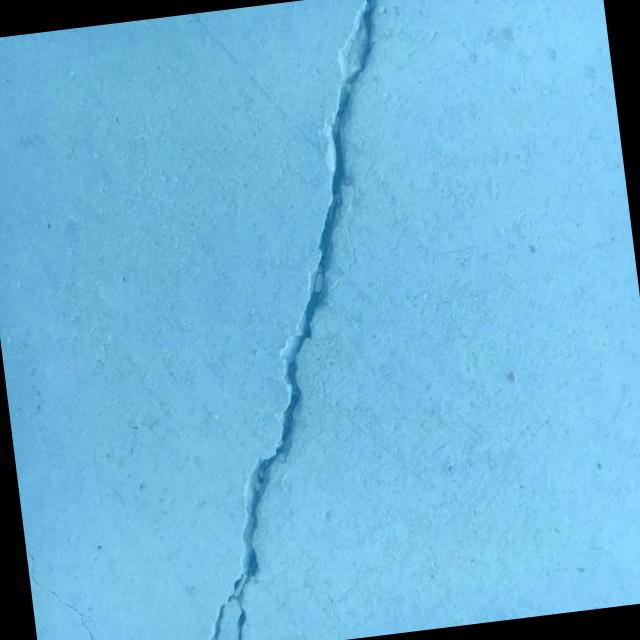crack: (131, 0, 454, 640), (26, 541, 107, 640)
